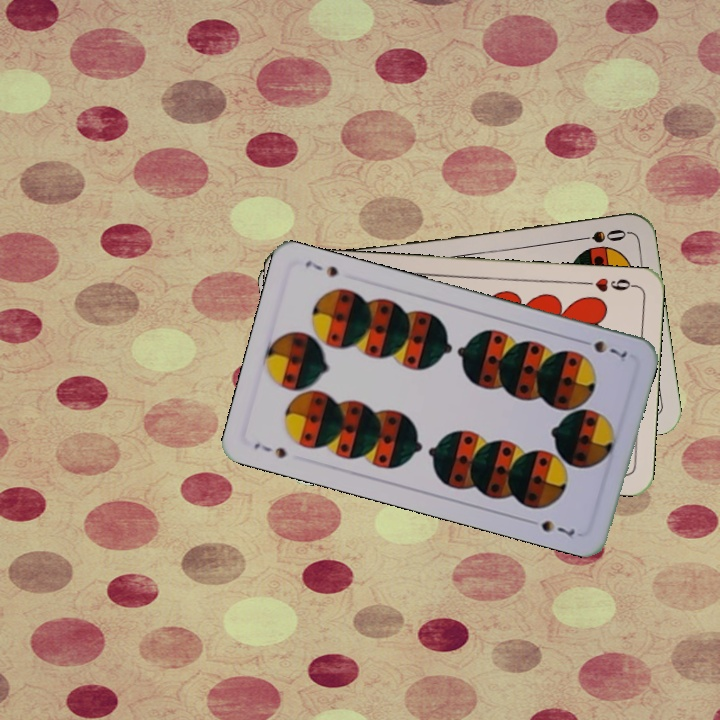H9: (579, 273, 638, 295)
S7: (575, 335, 630, 361), (250, 438, 289, 461)
SO: (570, 225, 629, 246)
